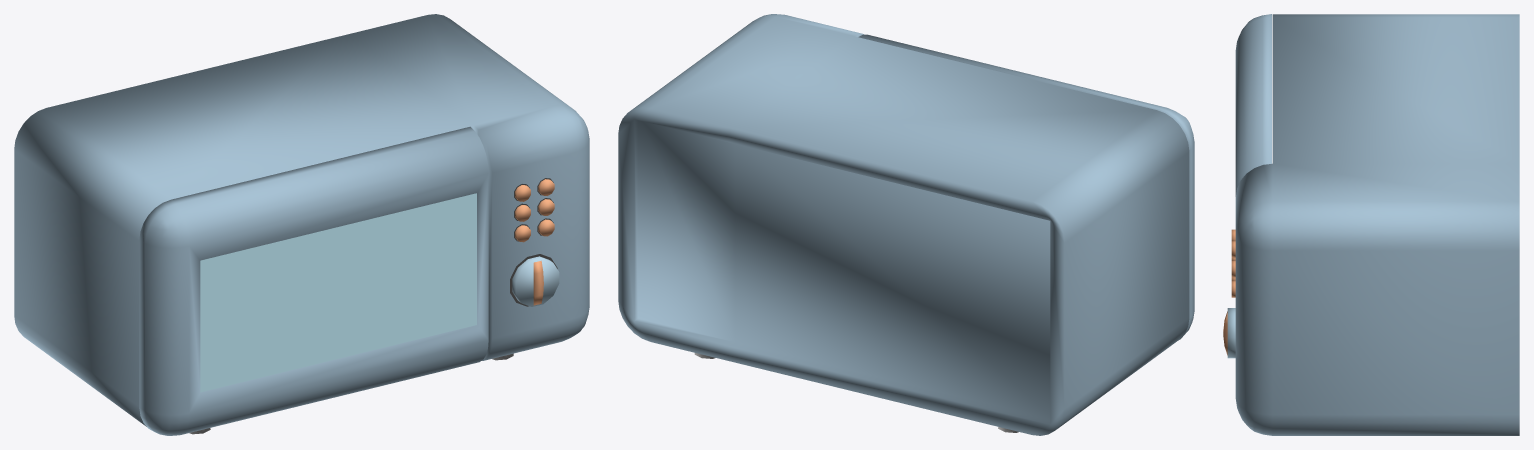
The model's file is Microwave.B.fbx.
3 views of the same model, side by side, from view 1: azimuth 30°, elevation 25°; view 2: azimuth 150°, elevation 25°; view 3: azimuth 270°, elevation 25° (orthographic).
Visible parts, largest first — view 1: Microwave.B; view 2: Microwave.B; view 3: Microwave.B.
Part boxes in pixels (<box>): Microwave.B: <box>14,14,589,435</box>; Microwave.B: <box>618,14,1194,435</box>; Microwave.B: <box>1223,14,1519,435</box>.
Size of the model in its own units: 75.51 by 40.27 by 43.92.
